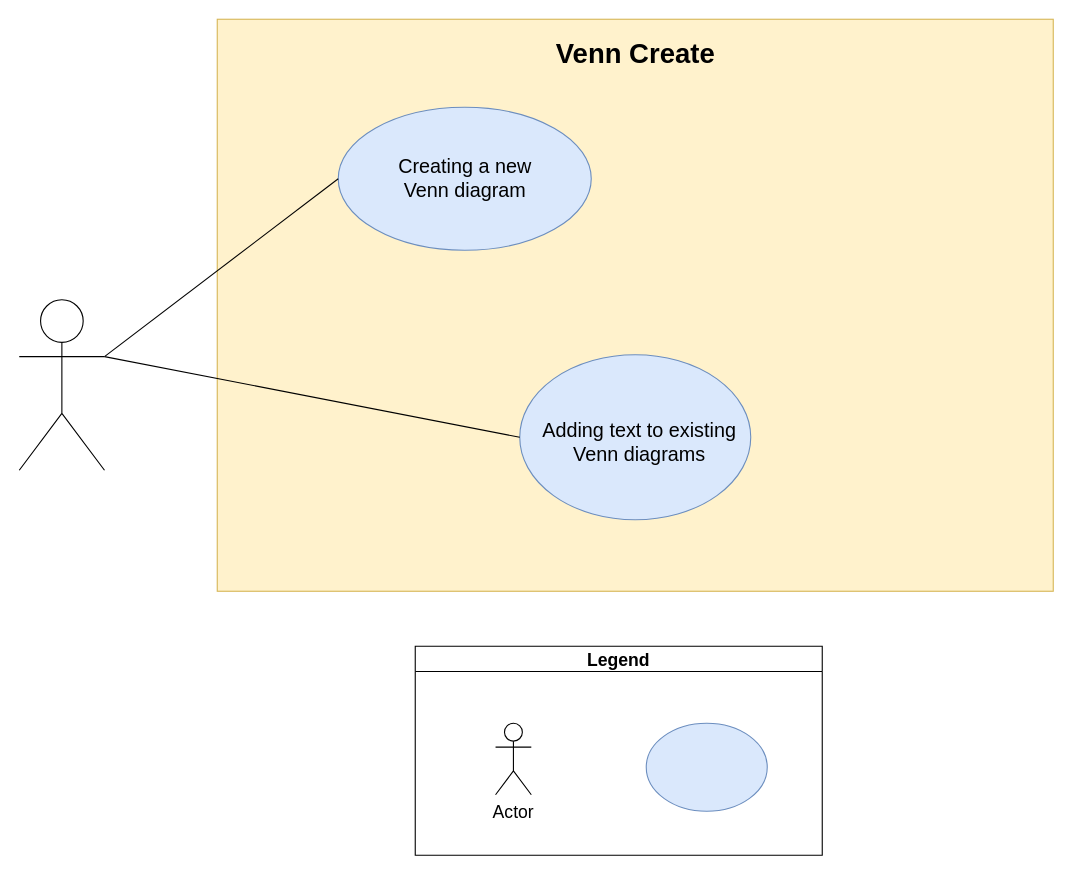
Some shapes in this 1073 by 875 pixel diagram are drawn without their labels. The centre of each missing label's shape, as x and y in pixels:
"Use Case" goes at point 706,766.
"User" goes at point 61,384.
